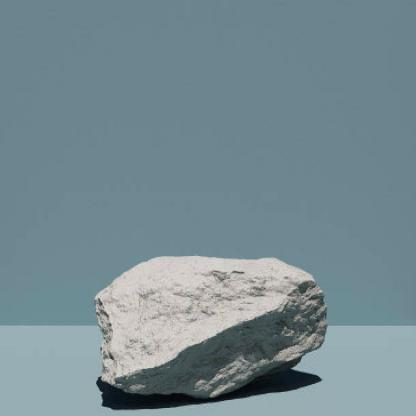Metamorphic_Marble: (94, 244, 329, 412)
